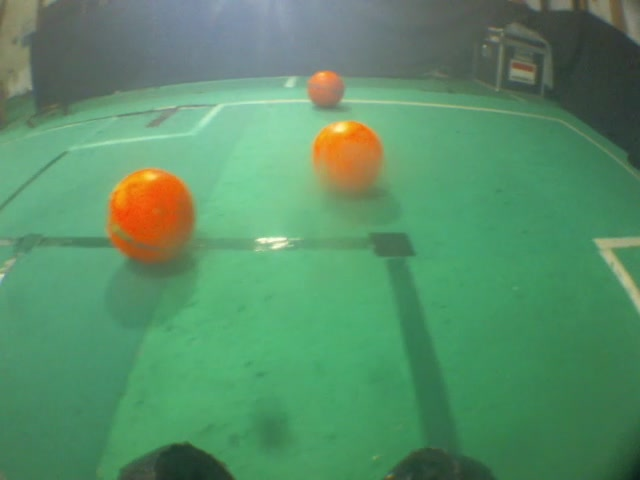ball: (102, 165, 201, 269), (306, 115, 385, 203), (300, 69, 351, 116)
